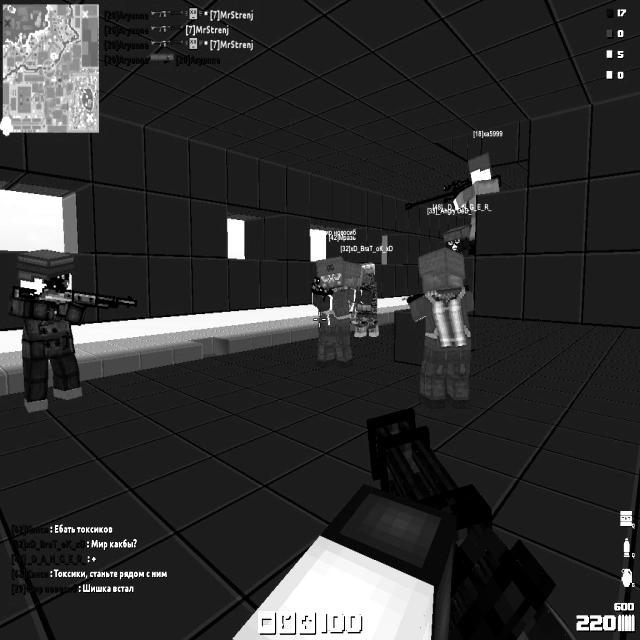Head: (18, 247, 76, 302), (420, 249, 465, 290), (314, 260, 346, 290), (470, 156, 495, 186), (445, 226, 472, 251), (345, 261, 362, 286), (358, 260, 377, 282)
Player: (7, 244, 84, 413), (406, 250, 476, 408), (308, 254, 354, 380), (452, 152, 501, 249), (353, 257, 382, 341), (442, 222, 475, 284), (342, 259, 362, 347)
